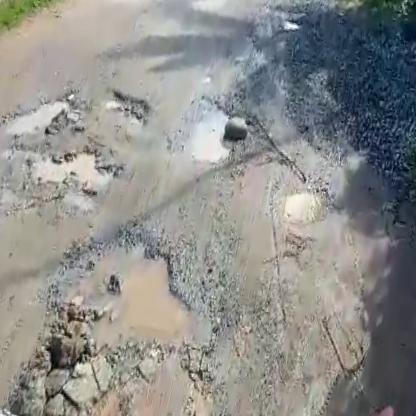pothole: (41, 215, 231, 369), (22, 137, 125, 199), (180, 92, 242, 173), (0, 80, 72, 145), (99, 83, 159, 133)
